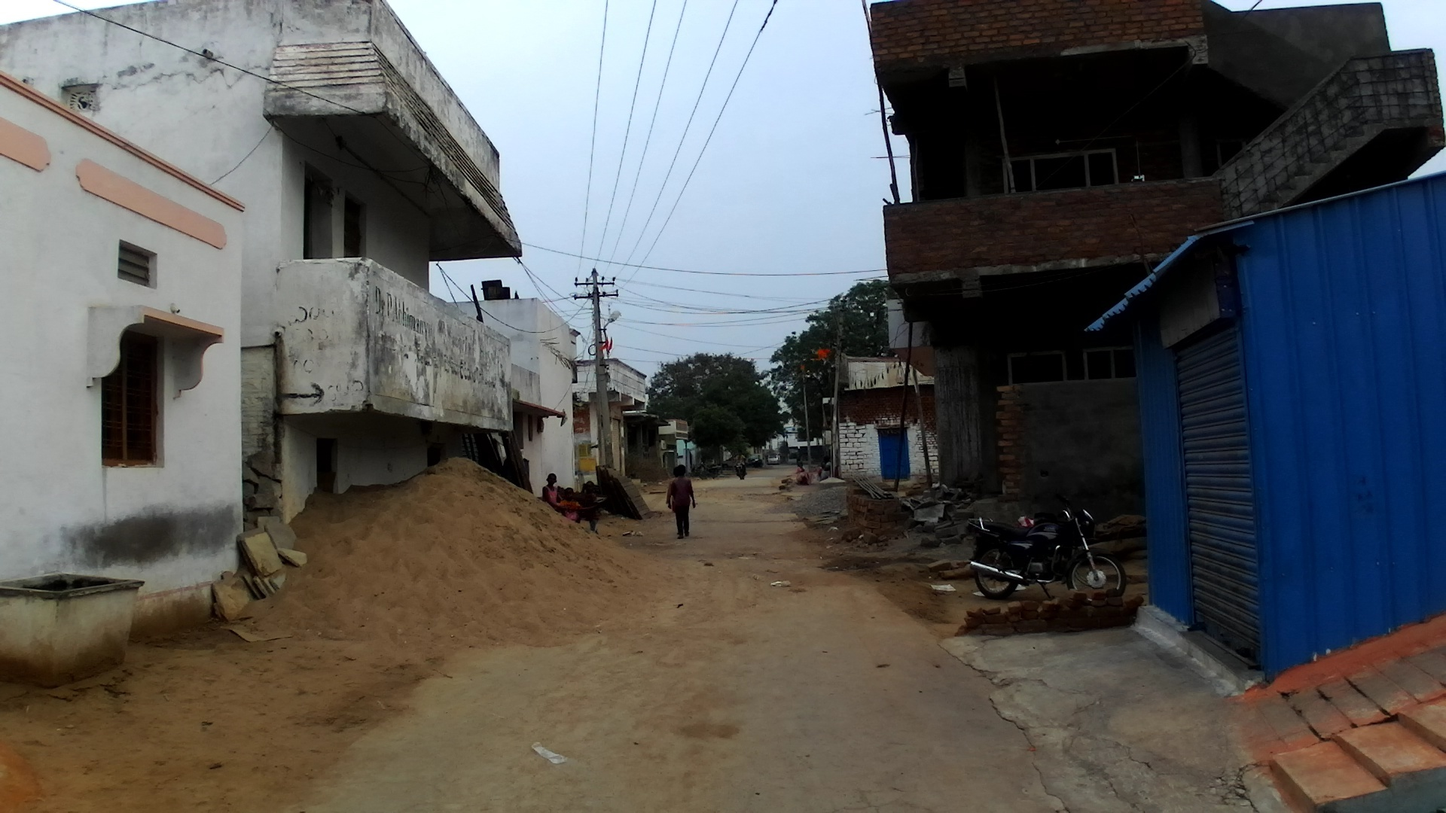car: (721, 455, 749, 469), (766, 455, 782, 467)
motorcycle: (964, 489, 1130, 607), (733, 458, 750, 483), (699, 461, 721, 480), (752, 457, 762, 469)
person: (666, 461, 697, 540), (576, 480, 600, 534), (669, 462, 685, 534), (560, 483, 584, 527), (541, 471, 565, 513), (815, 455, 834, 482), (794, 459, 811, 486)
rider: (731, 449, 747, 477)
